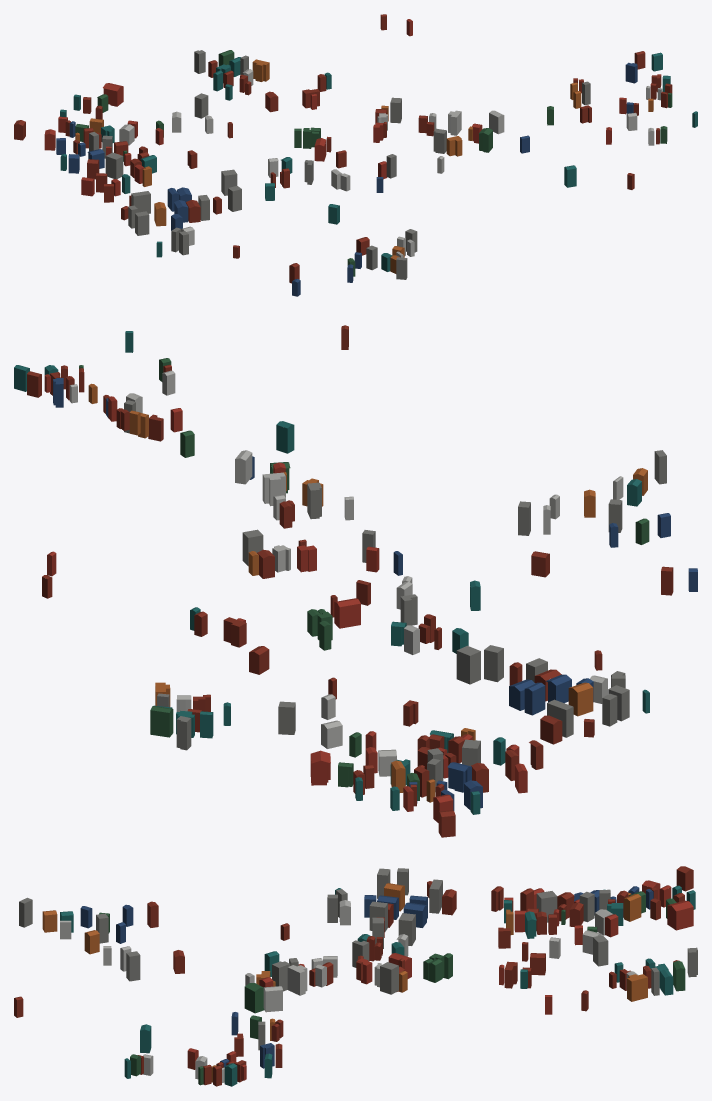
The model's file is near-16-54725-29734.230bc2d8.glb.
3 views of the same model, one above another, from view 1: azimuth 30°, elevation 25°; view 2: azimuth 150°, elevation 25°; view 3: azimuth 270°, elevation 25° (orthographic). The views are drawn at different scales.
Bounding box in the file's own units: 588 × 130 × 588.
